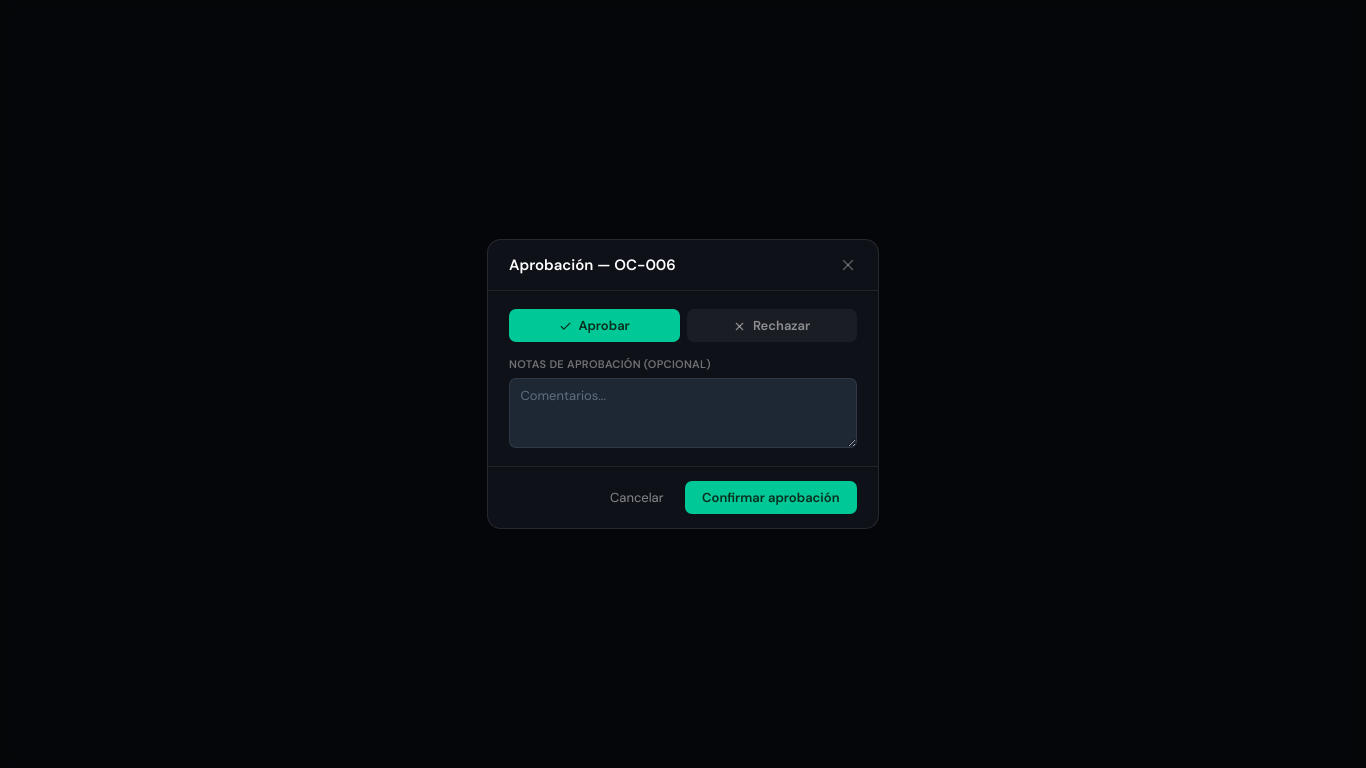
Test case: ModalAprobacionOC › muestra el error devuelto por el backend al aprobar
This screenshot has width=1366, height=768.
Step 1. Click the button "Confirmar aprobación" → [771, 497], box [684, 481, 857, 514]
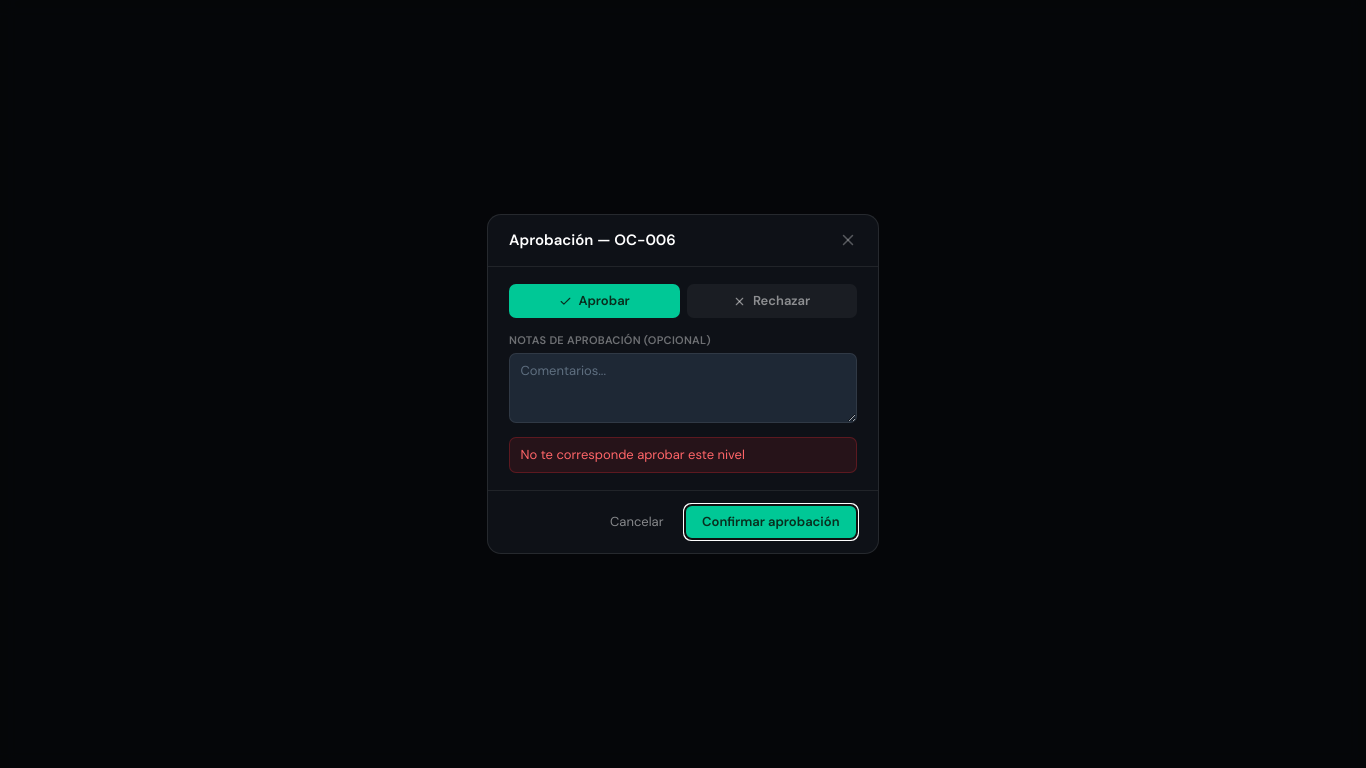
Check: the text "No te corresponde aprobar este nivel" is shown, box [509, 437, 857, 473]
